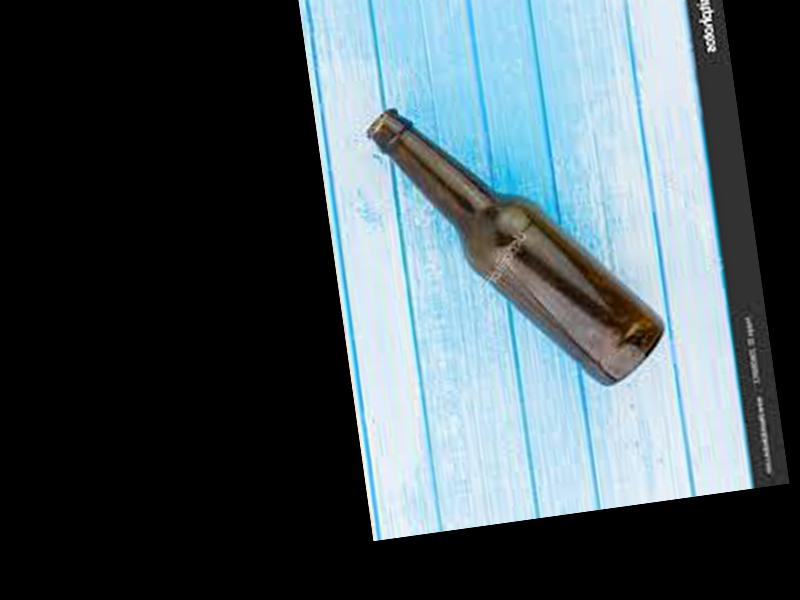Beer: (363, 77, 675, 414)
